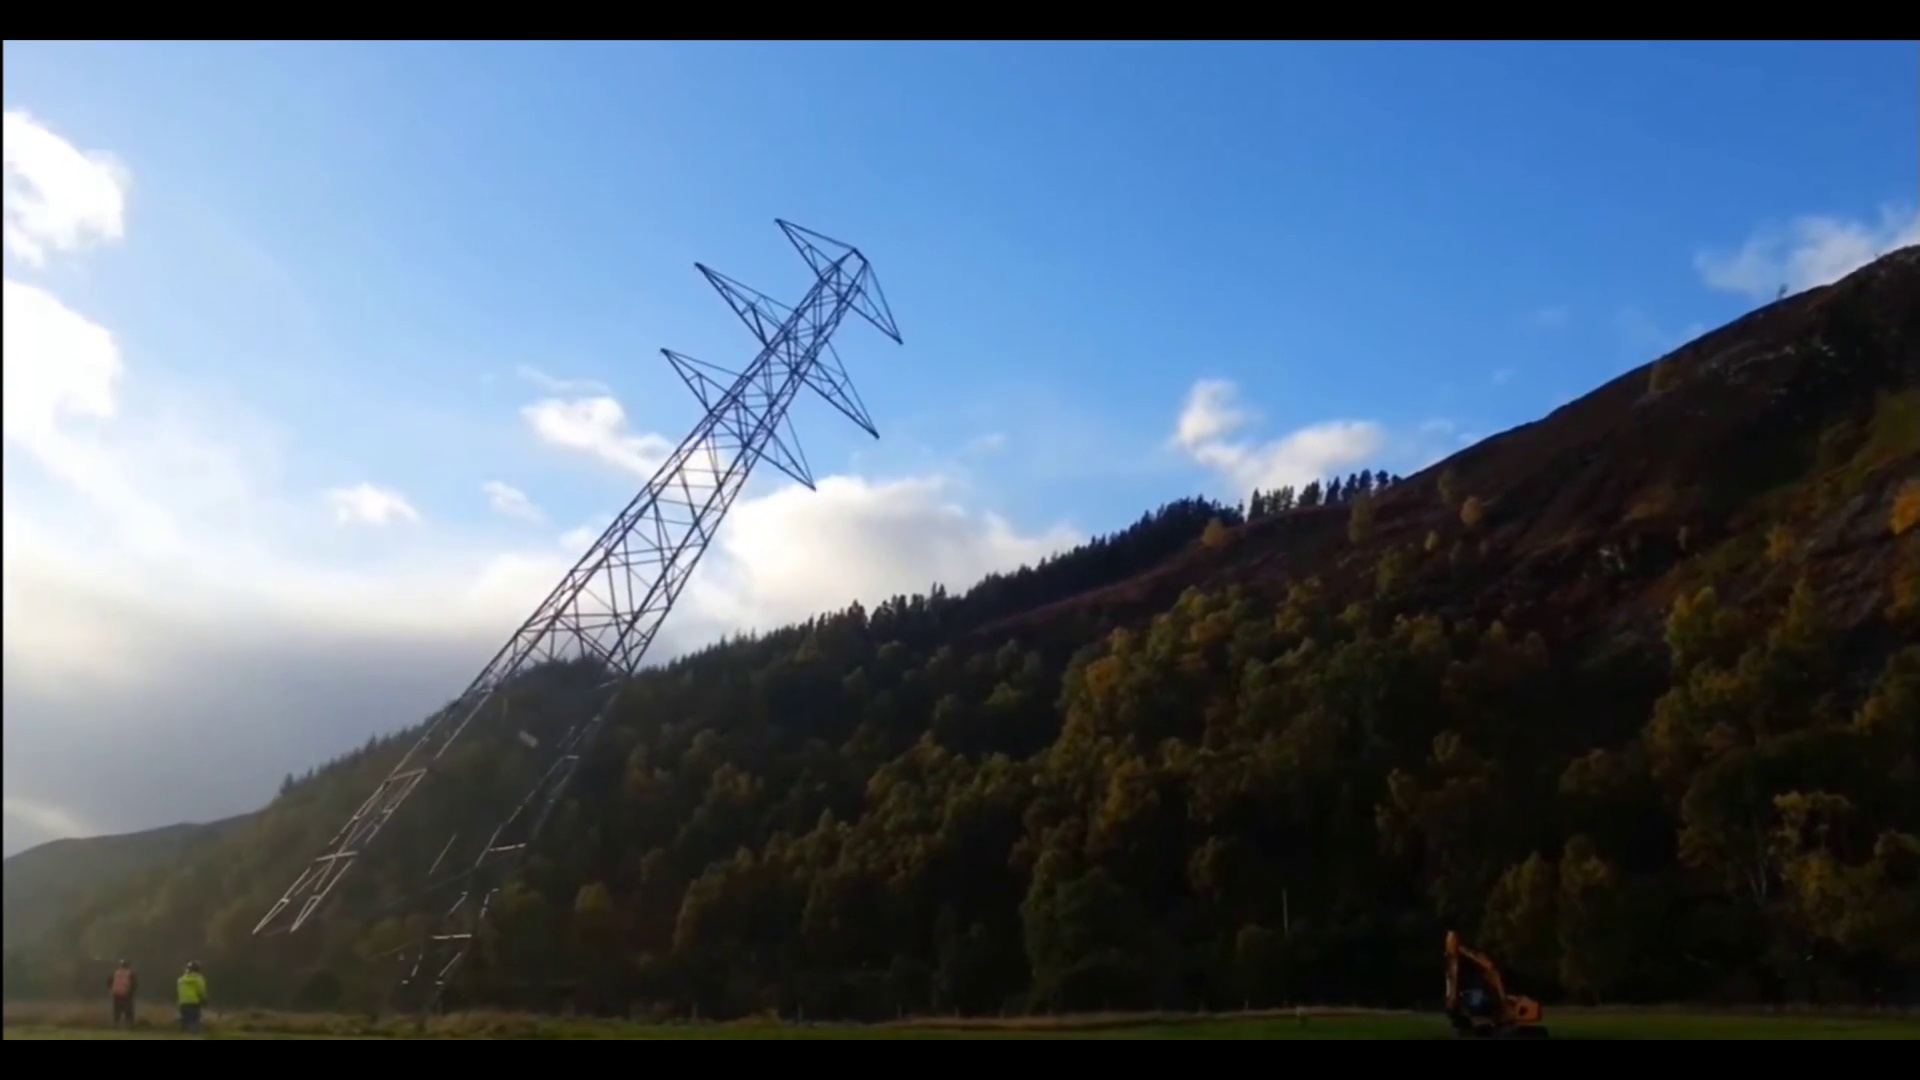tower_up: (257, 135, 895, 978)
